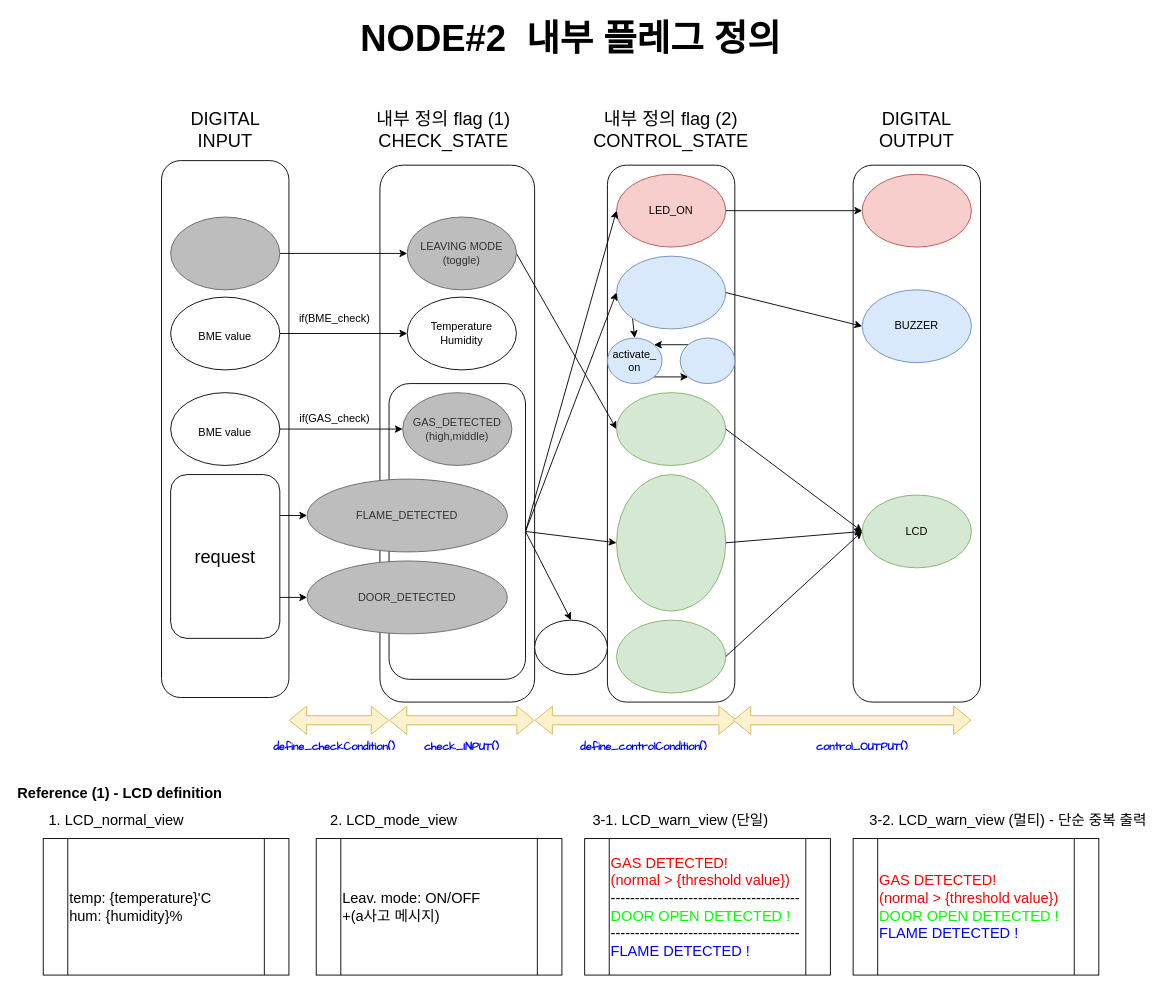
Image size: 1173x991. Some labels were removed from this diagram. Here are the shapes that lost their labels. From the top down, the box of each, then its label:
(861, 173, 971, 247): LED
(170, 216, 280, 290): BUTTON_STATE
(616, 255, 726, 329): BUZZER_activate
(679, 337, 735, 384): activate_ off
(616, 392, 726, 465): LCD_mode_view
(616, 474, 726, 611): LCD_warn_view 1) GAS 2) FLAME 3) DOOR 4) multi
(534, 619, 607, 675): multi_ DETECTED
(616, 619, 726, 693): LCD_normal_view
